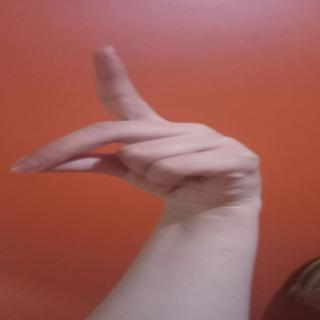TAA: (3, 36, 320, 225)
